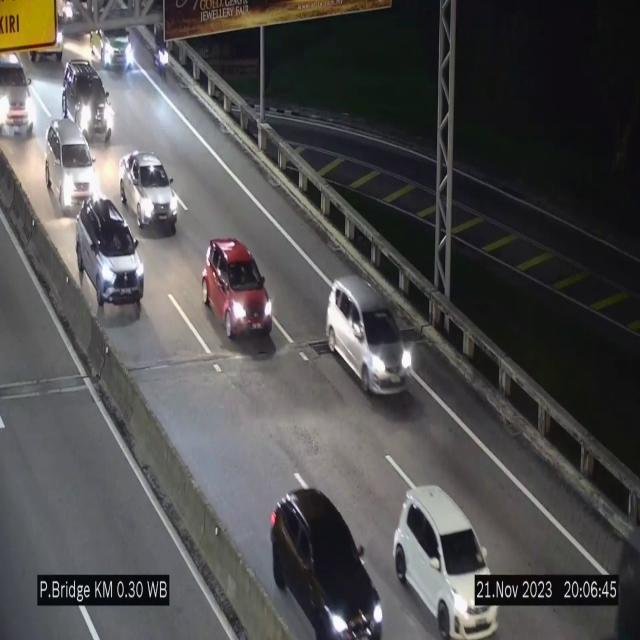Car: (261, 482, 385, 640), (394, 487, 498, 638), (326, 278, 414, 394), (74, 196, 150, 318), (204, 237, 272, 339), (44, 123, 104, 215), (61, 54, 117, 148), (120, 150, 178, 228), (0, 48, 36, 138), (88, 7, 132, 73)
Motorcycle: (153, 17, 170, 94)
